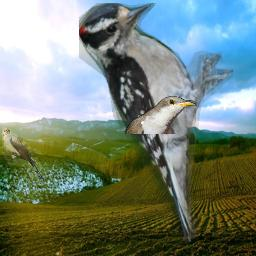Cuckoo: (125, 96, 197, 134), (2, 127, 45, 183)
Woodpecker: (79, 3, 233, 244)
